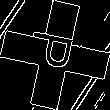P_E: (26, 31, 84, 79)
